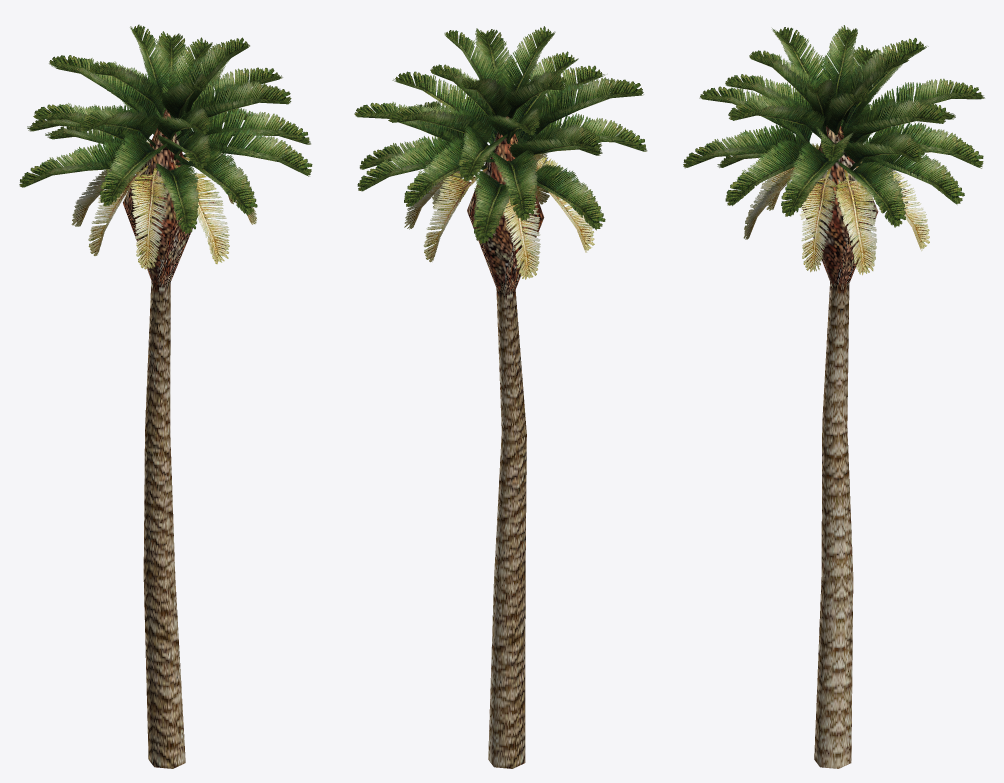
The model's file is tree_cretan_date_palm_03.dae.
The picture shows the model from 3 angles, left to right: view 1: azimuth 30°, elevation 25°; view 2: azimuth 150°, elevation 25°; view 3: azimuth 270°, elevation 25°; orthographic projection.
Visible parts, largest first — view 1: tree_cretan_date_palm_03; view 2: tree_cretan_date_palm_03; view 3: tree_cretan_date_palm_03.
Boxes of the visible parts, x1,y1,x2,y2 form: tree_cretan_date_palm_03: (19,24,312,768); tree_cretan_date_palm_03: (354,26,647,768); tree_cretan_date_palm_03: (683,25,984,768).
Bounding box in the file's own units: 9.03 × 23.91 × 9.32.
